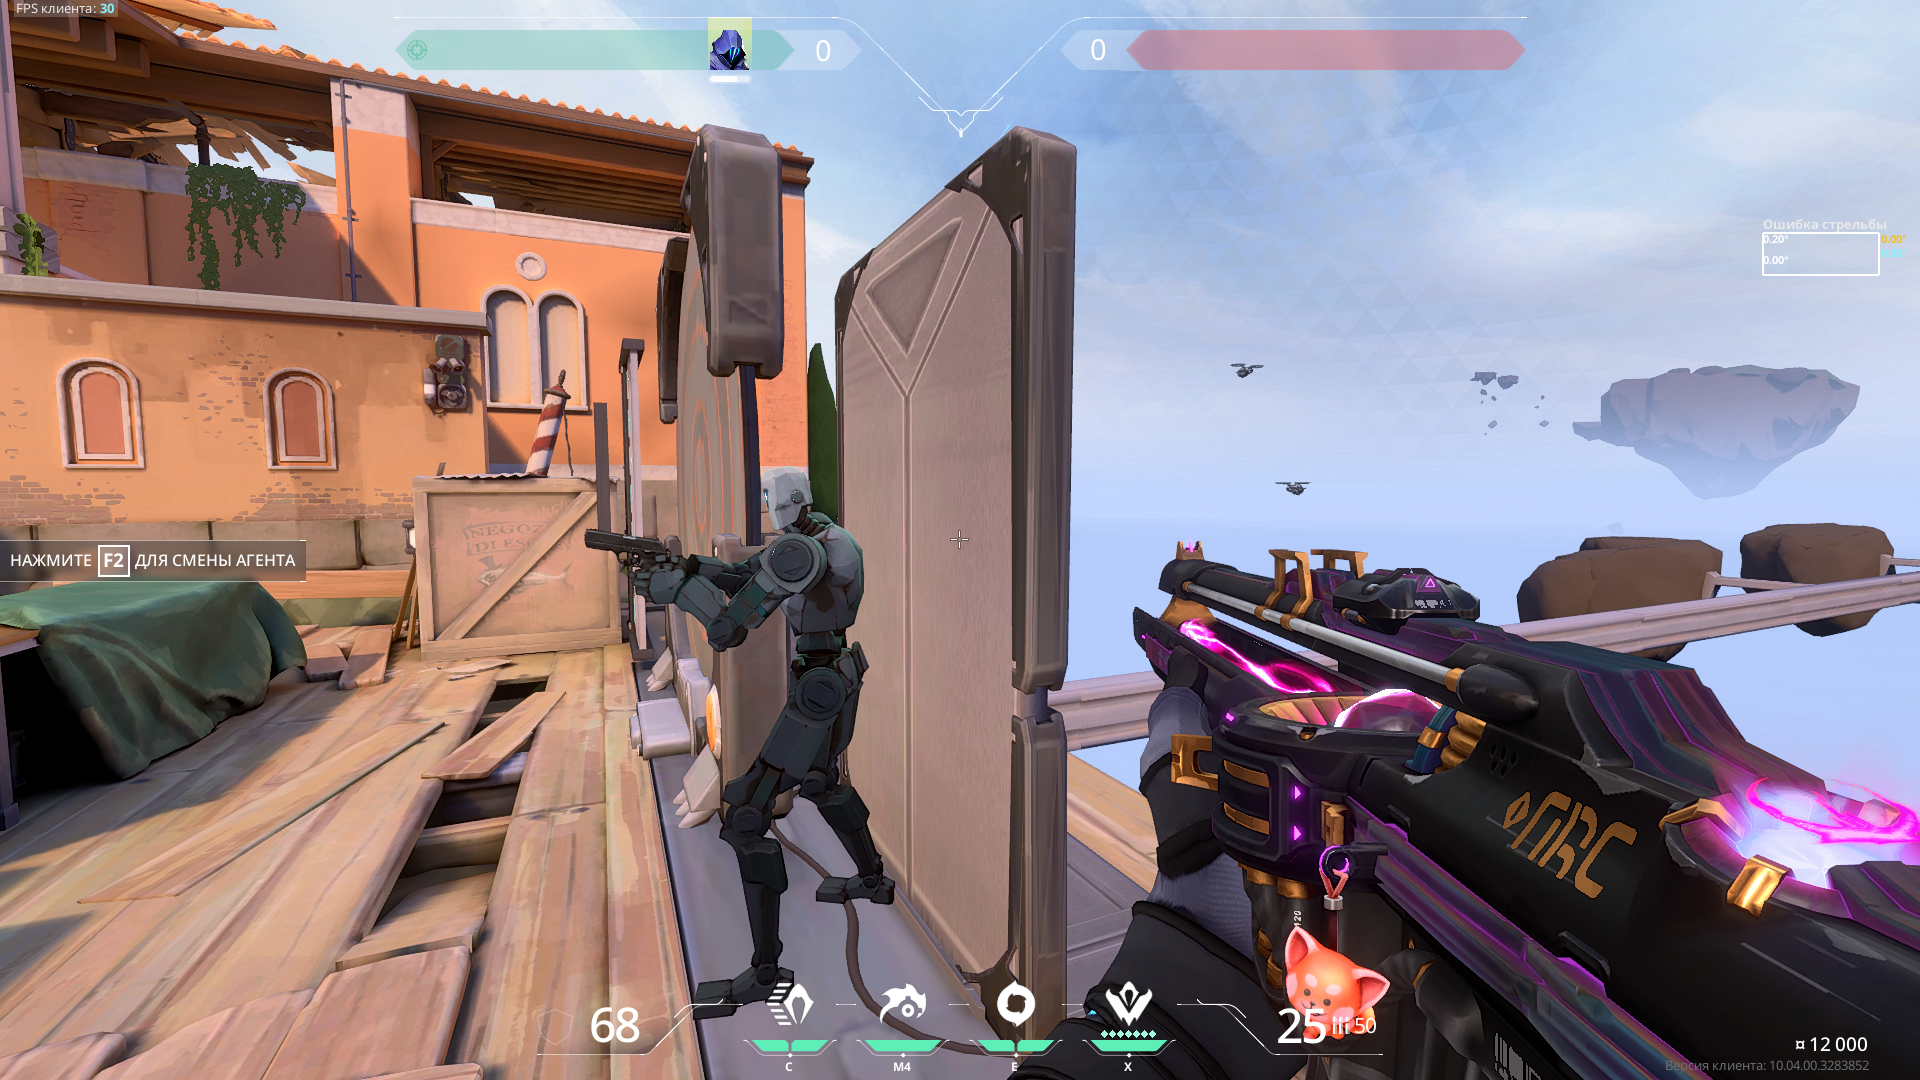head: (762, 466, 813, 530)
